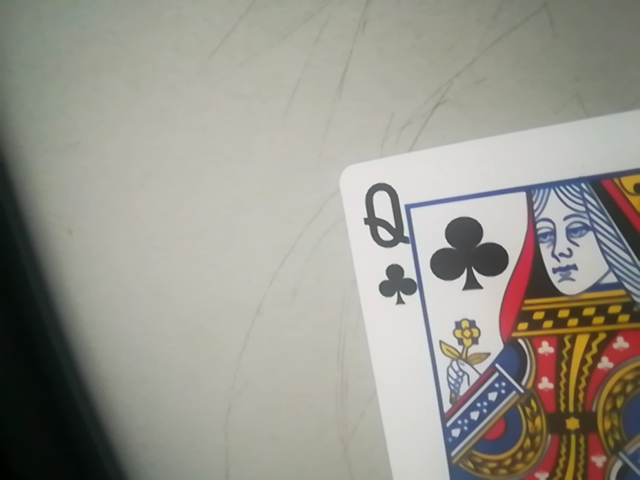mh q: (330, 67, 636, 480)
